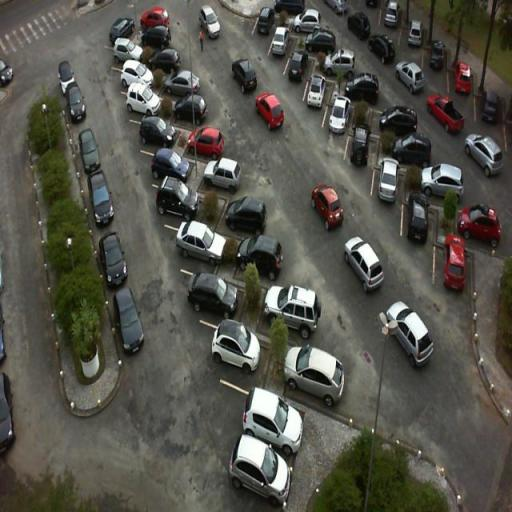Illegal-parking: (94, 283, 164, 367), (75, 224, 143, 292), (67, 172, 130, 232)
Slot-occupied: (218, 377, 316, 457), (277, 333, 357, 417), (194, 315, 279, 393), (172, 260, 252, 328), (254, 276, 332, 342), (430, 230, 484, 307), (225, 224, 293, 284), (164, 218, 228, 278), (398, 185, 441, 274), (122, 109, 186, 161), (134, 143, 198, 194), (149, 177, 212, 227), (368, 148, 406, 223), (342, 124, 382, 188), (117, 84, 167, 126), (321, 92, 351, 152), (300, 68, 331, 124)
